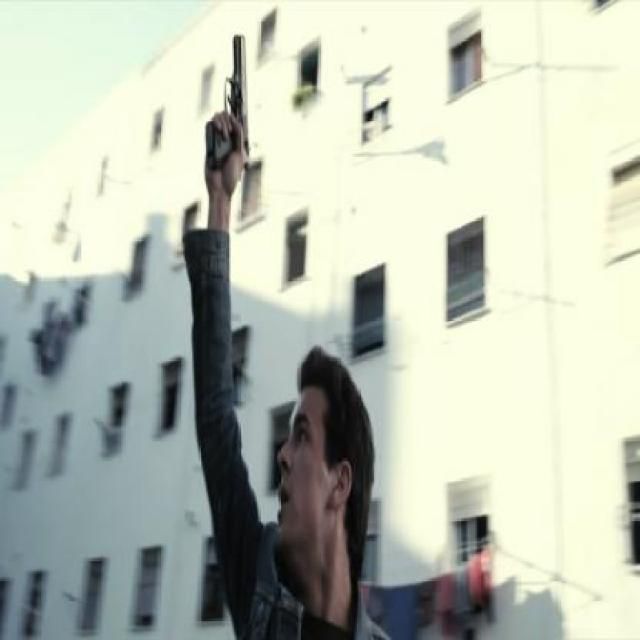guns: (185, 33, 264, 199)
